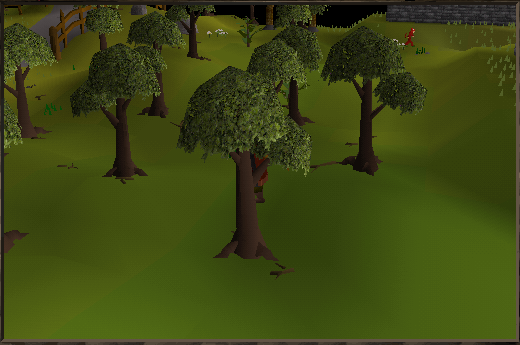Tree: (182, 64, 298, 256), (328, 22, 418, 176), (80, 46, 155, 180), (0, 22, 58, 146), (169, 0, 211, 58), (81, 3, 121, 44)
